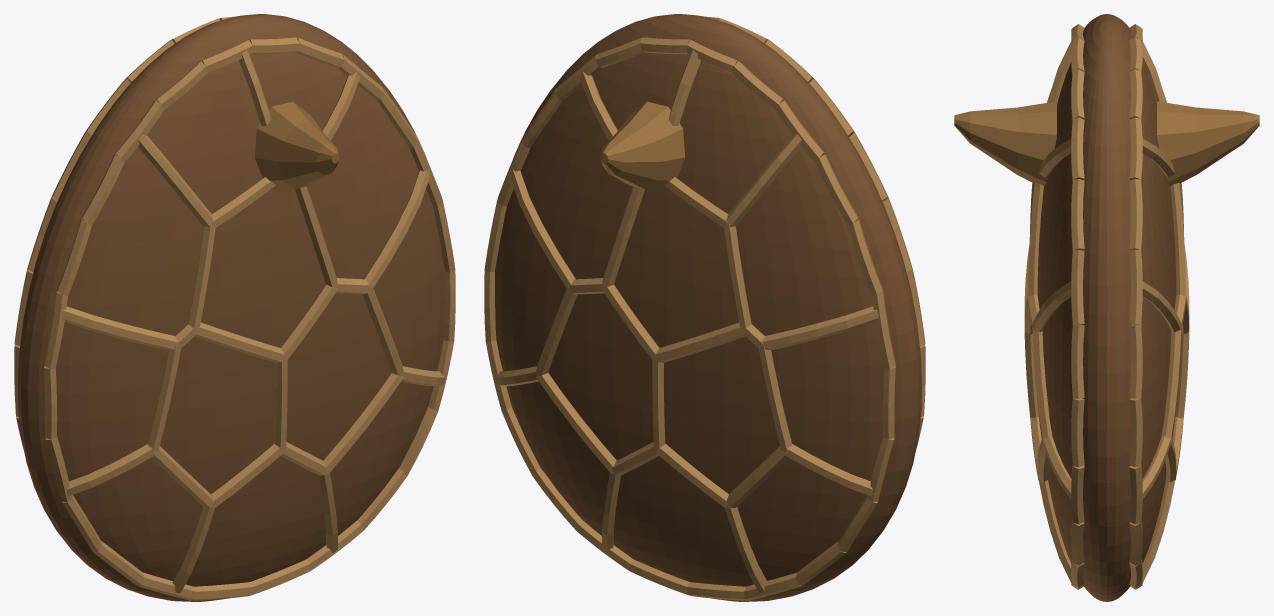
File: iodes-brownii.glb
The picture shows the model from 3 angles, left to right: view 1: azimuth 30°, elevation 25°; view 2: azimuth 150°, elevation 25°; view 3: azimuth 270°, elevation 25°; orthographic projection. The views are drawn at different scales.
Visible parts, largest first — view 1: closed-lenticular-reticulate-endocarp, connected-coarse-reticulate-ridge-volumes, front-subapical-face-horn; view 2: closed-lenticular-reticulate-endocarp, connected-coarse-reticulate-ridge-volumes, rear-subapical-face-horn; view 3: closed-lenticular-reticulate-endocarp, connected-coarse-reticulate-ridge-volumes, front-subapical-face-horn, rear-subapical-face-horn.
Boxes of the visible parts, left/top/right/bottom form: closed-lenticular-reticulate-endocarp: left=17, top=14, right=444, bottom=601; connected-coarse-reticulate-ridge-volumes: left=14, top=16, right=455, bottom=600; front-subapical-face-horn: left=254, top=101, right=339, bottom=192; closed-lenticular-reticulate-endocarp: left=495, top=14, right=922, bottom=601; connected-coarse-reticulate-ridge-volumes: left=484, top=16, right=925, bottom=600; rear-subapical-face-horn: left=600, top=101, right=685, bottom=192; closed-lenticular-reticulate-endocarp: left=1037, top=14, right=1176, bottom=601; connected-coarse-reticulate-ridge-volumes: left=1024, top=24, right=1189, bottom=589; front-subapical-face-horn: left=954, top=101, right=1056, bottom=186; rear-subapical-face-horn: left=1157, top=101, right=1259, bottom=186.
Size of the model in its own units: 0.007 by 0.009 by 0.0045.
